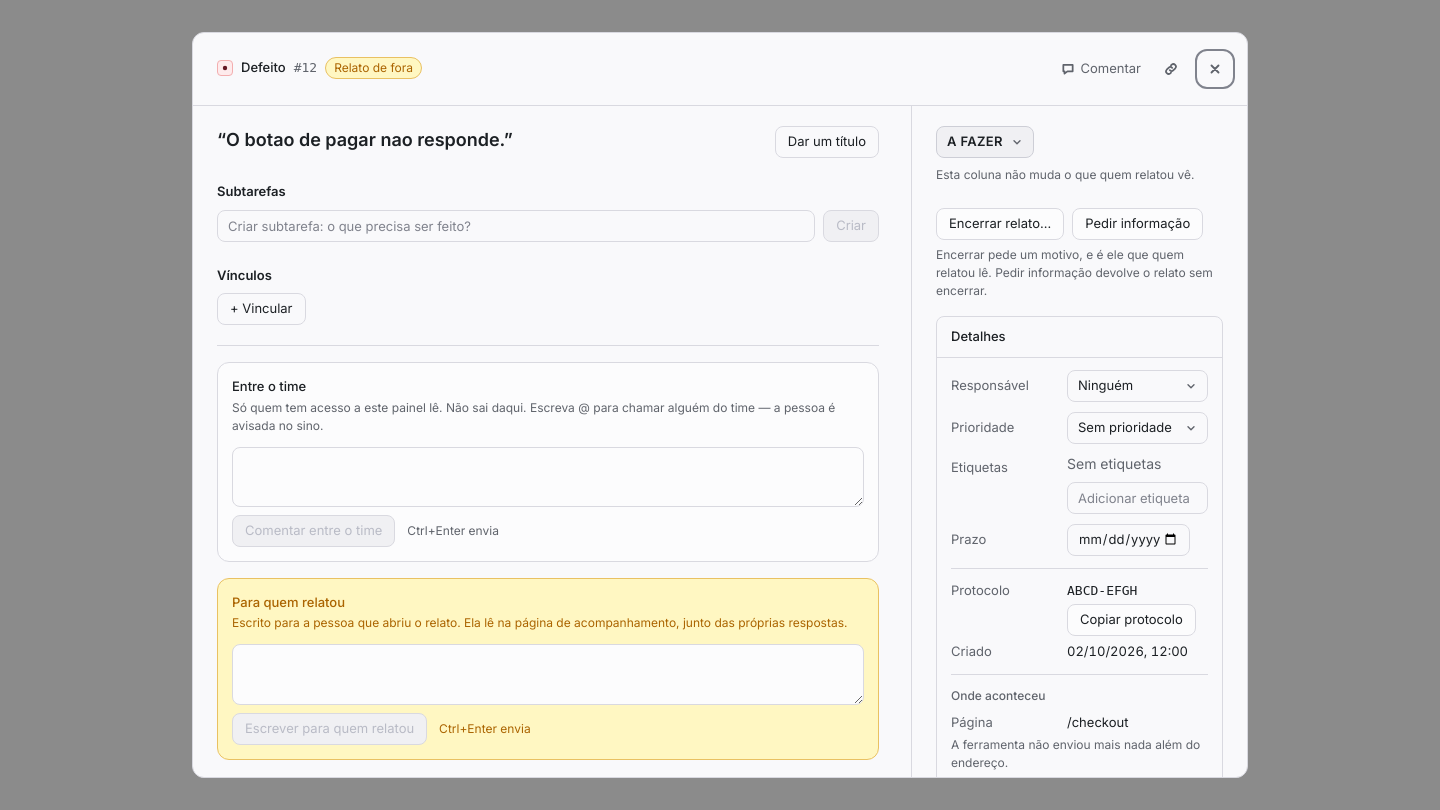
Test: as saidas do relato aberto › o pedido que falha deixa o dialogo aberto com o texto, e o aviso diz por que
The width and height of the screenshot is (1440, 810).
Expected: the button "Encerrar relato…" is shown, [936,208,1064,240]
Click the button "Pedir informação" at (1138, 224), box [1072,208,1203,240]
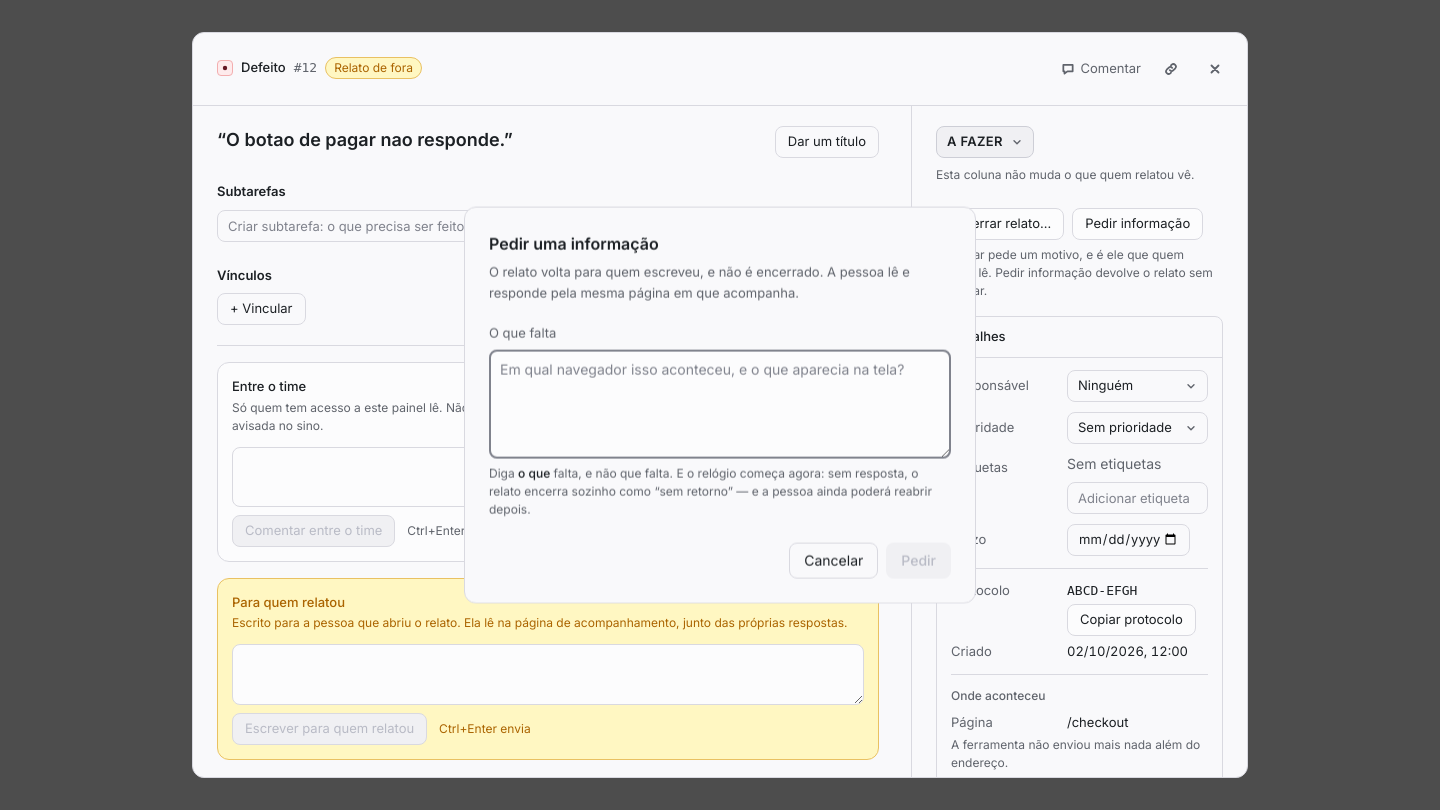
Type "Em qual navegador?" into the text box labelled "O que falta" at (720, 404), box [489,349,951,458]
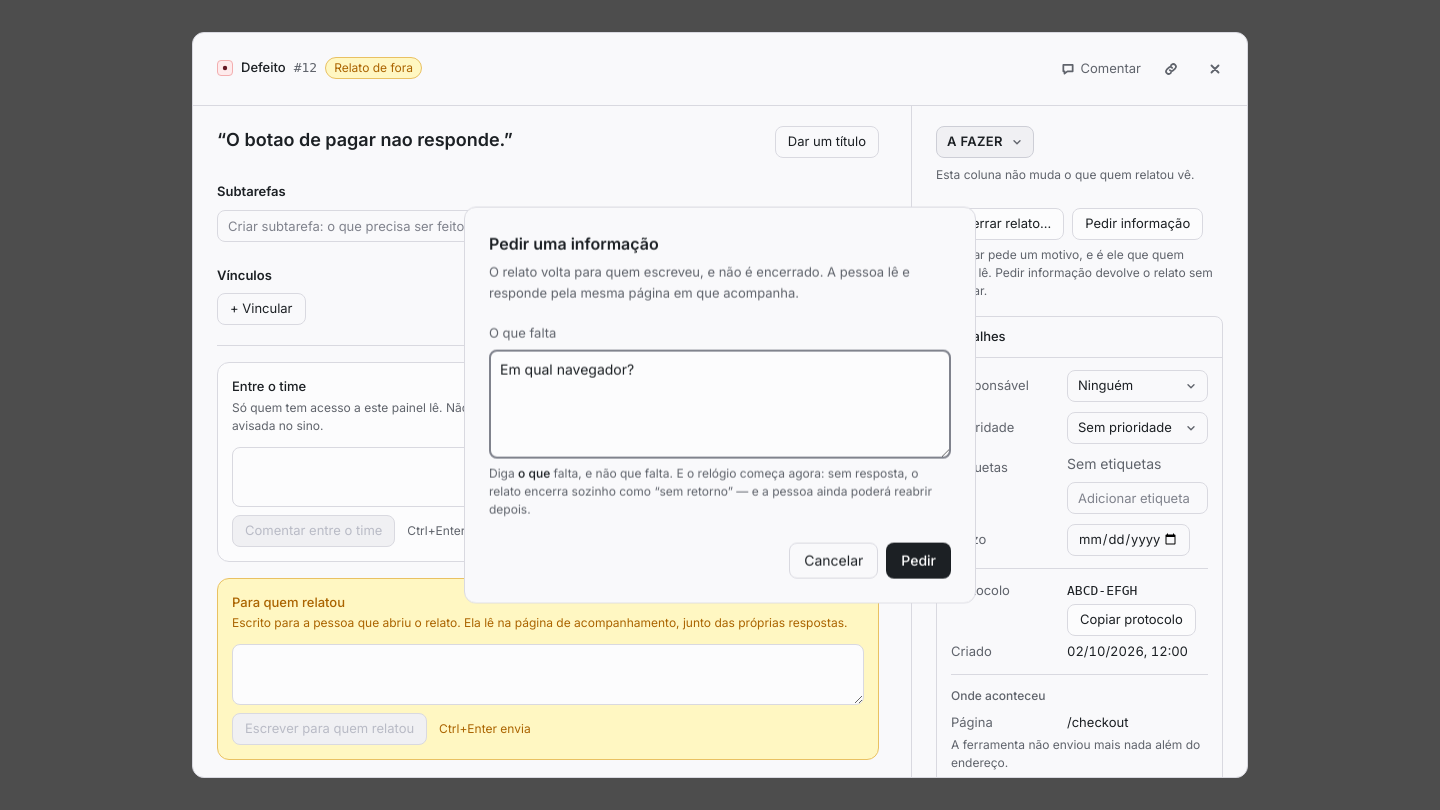
Click the button "Pedir" at (919, 560), box [886,542,951,578]
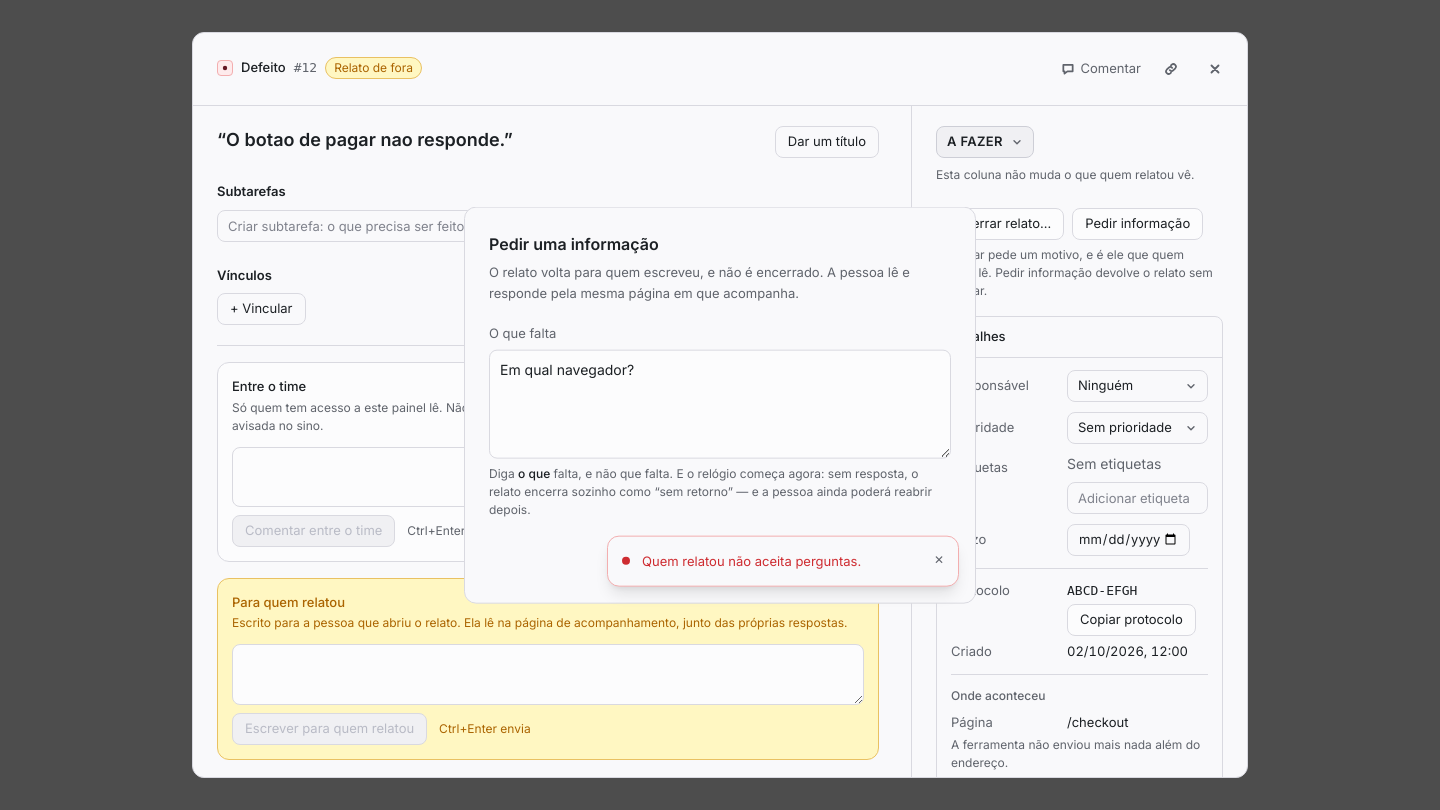
Now the message shows "aceita perguntas.", box [642,552,861,568]
